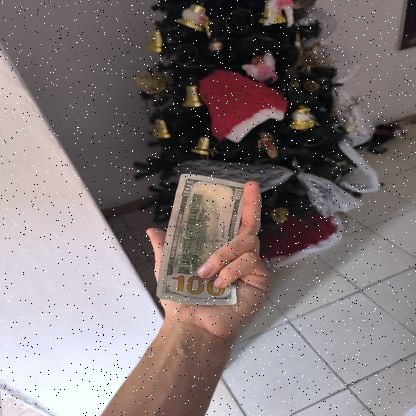one_hundred-back: (153, 173, 247, 307)
